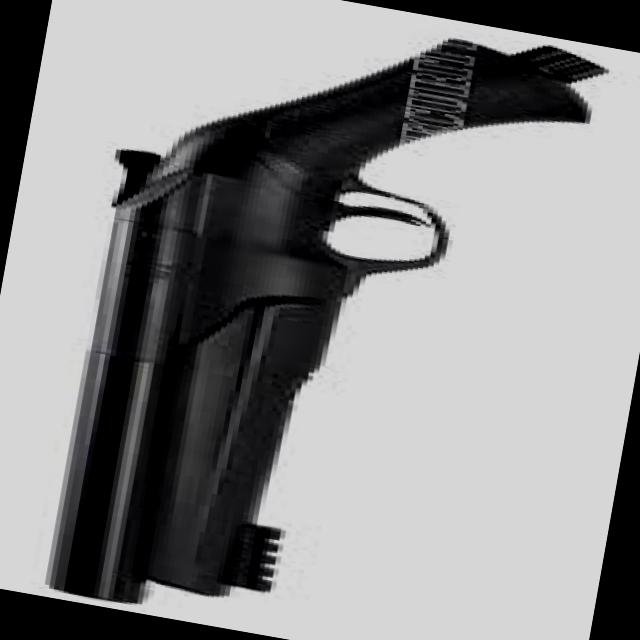long weapon: (4, 0, 638, 634)
